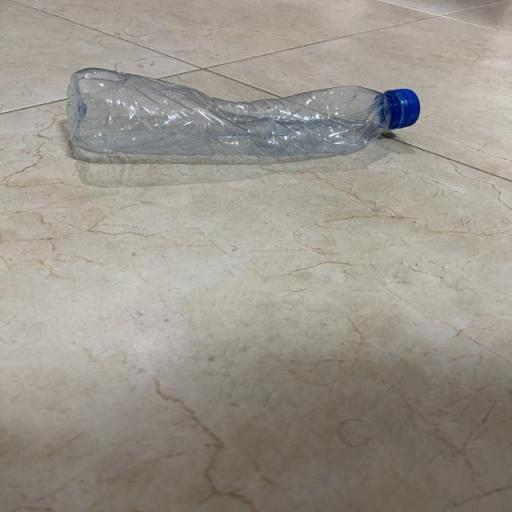plastic: (45, 62, 436, 172)
